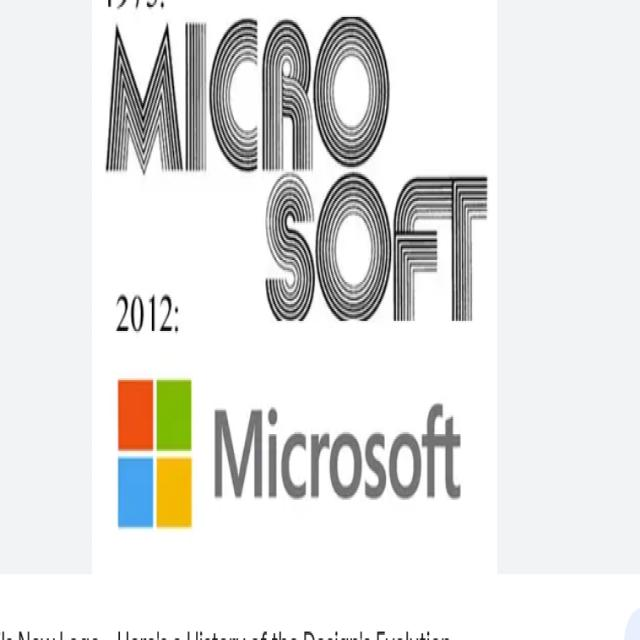microsoft: (117, 377, 192, 528)
microsoft_txt: (216, 403, 461, 498)
